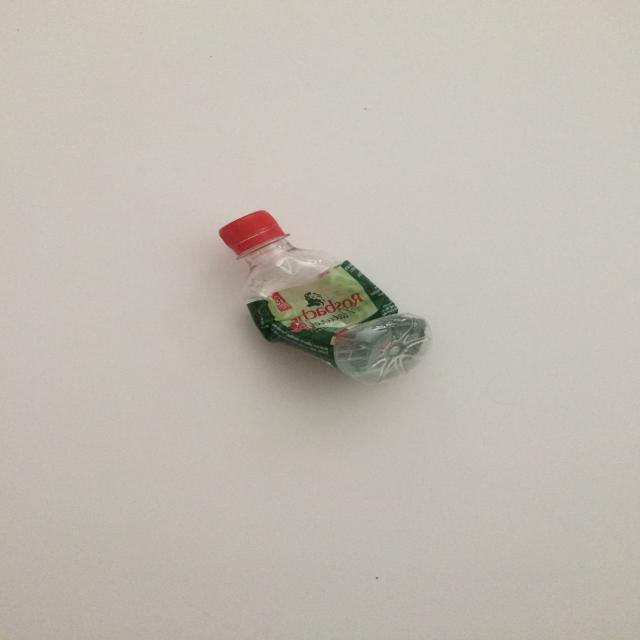plastic: (218, 209, 432, 385)
